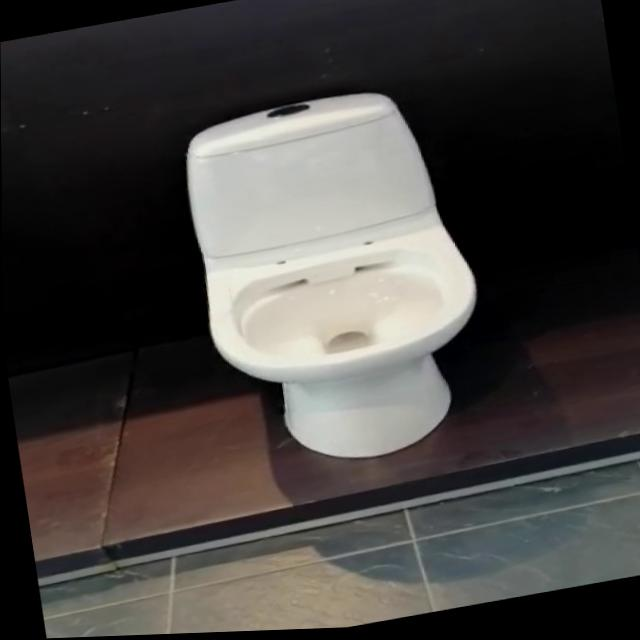toilet: (174, 77, 497, 486)
